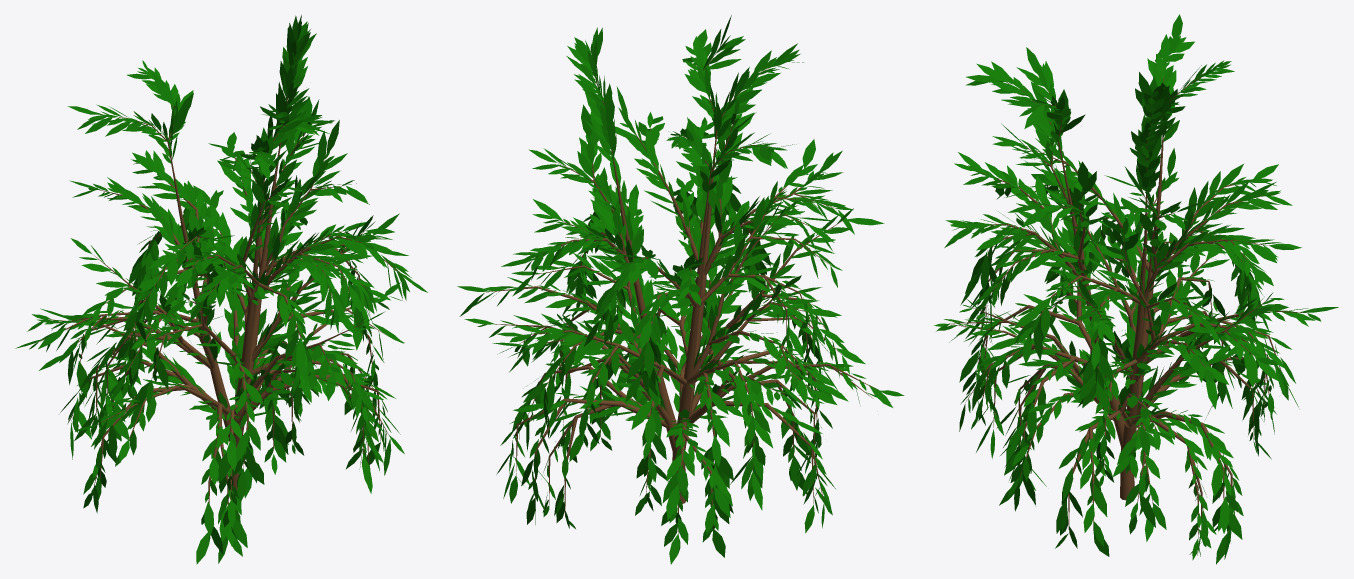
Rendered from Tree4.fbx.
The picture shows the model from 3 angles, left to right: view 1: azimuth 30°, elevation 25°; view 2: azimuth 150°, elevation 25°; view 3: azimuth 270°, elevation 25°; orthographic projection. The views are drawn at different scales.
Visible parts, largest first — view 1: leaves, tree; view 2: leaves, tree; view 3: leaves, tree.
Part boxes in pixels (x1,y1,x2,y2): leaves: [15, 15, 427, 564]; tree: [39, 72, 400, 504]; leaves: [457, 15, 904, 564]; tree: [486, 50, 878, 532]; leaves: [934, 14, 1338, 564]; tree: [950, 63, 1306, 537].
Size of the model in its own units: 605 by 722 by 551.
